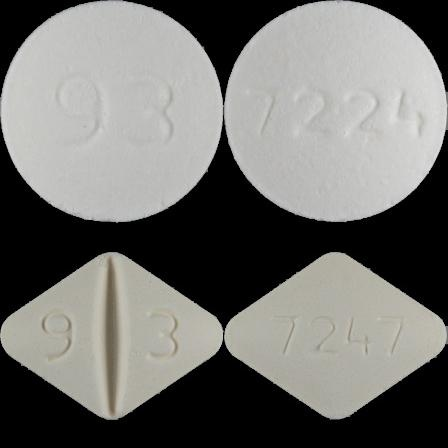0093-7224: (0, 0, 224, 224)
